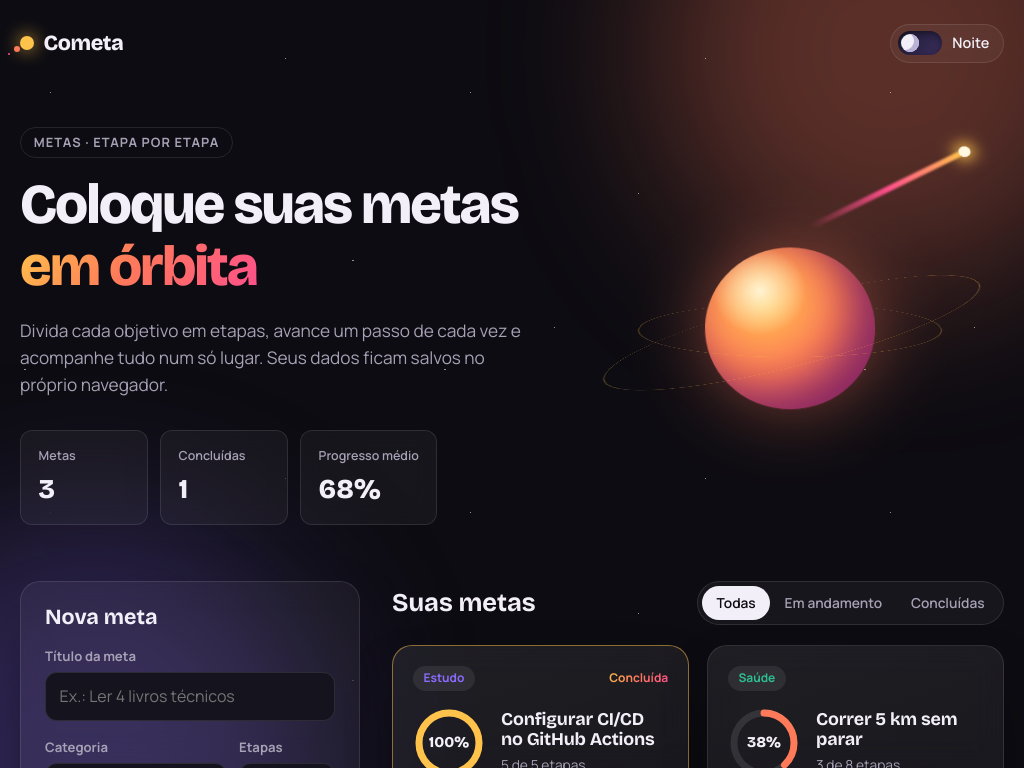
Test case: App Cometa › avança etapas até concluir a meta
In the field labelled "Título da meta": (190, 696) [45,672,335,721], type "Meta rápida"
(page scrolled)
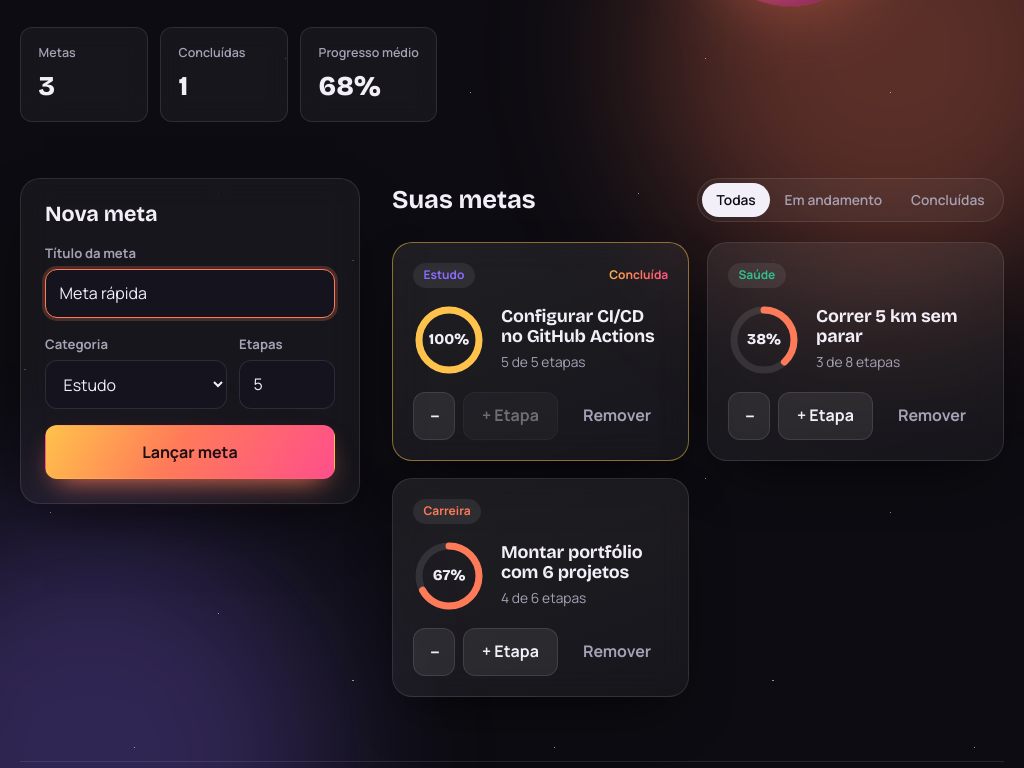
Select "Estudo" in the dropdown labelled "Categoria": (136, 385) [45,360,227,409]
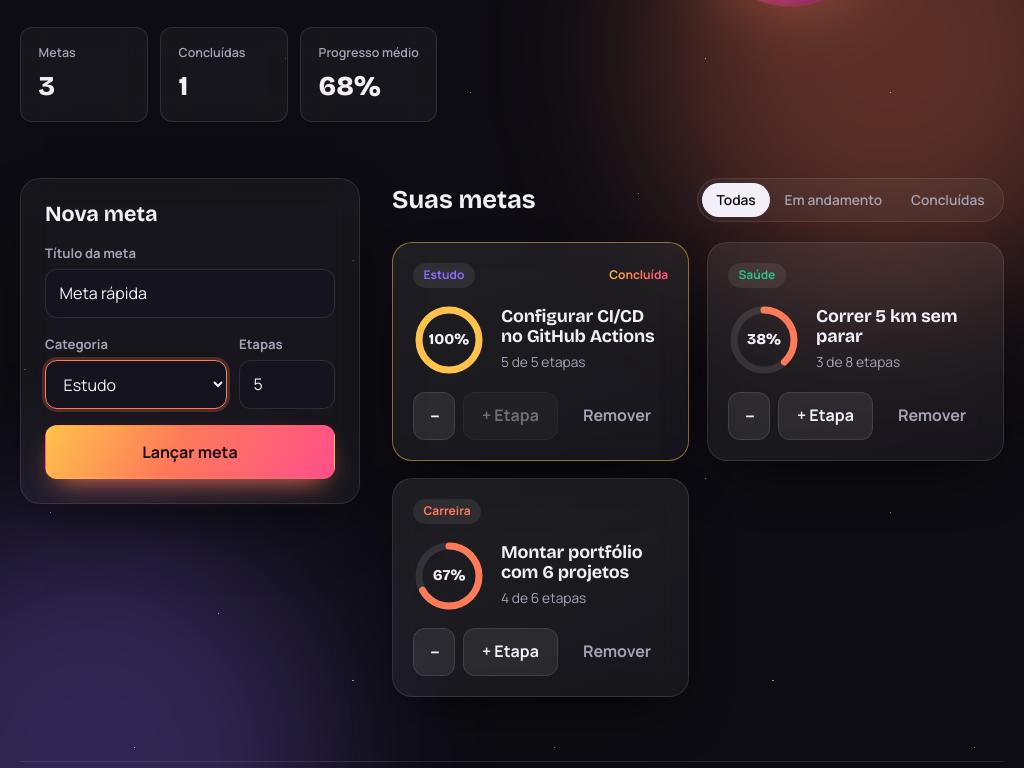
Replace the text in the number field labelled "Etapas" with "2": (287, 384) [239,360,335,409]
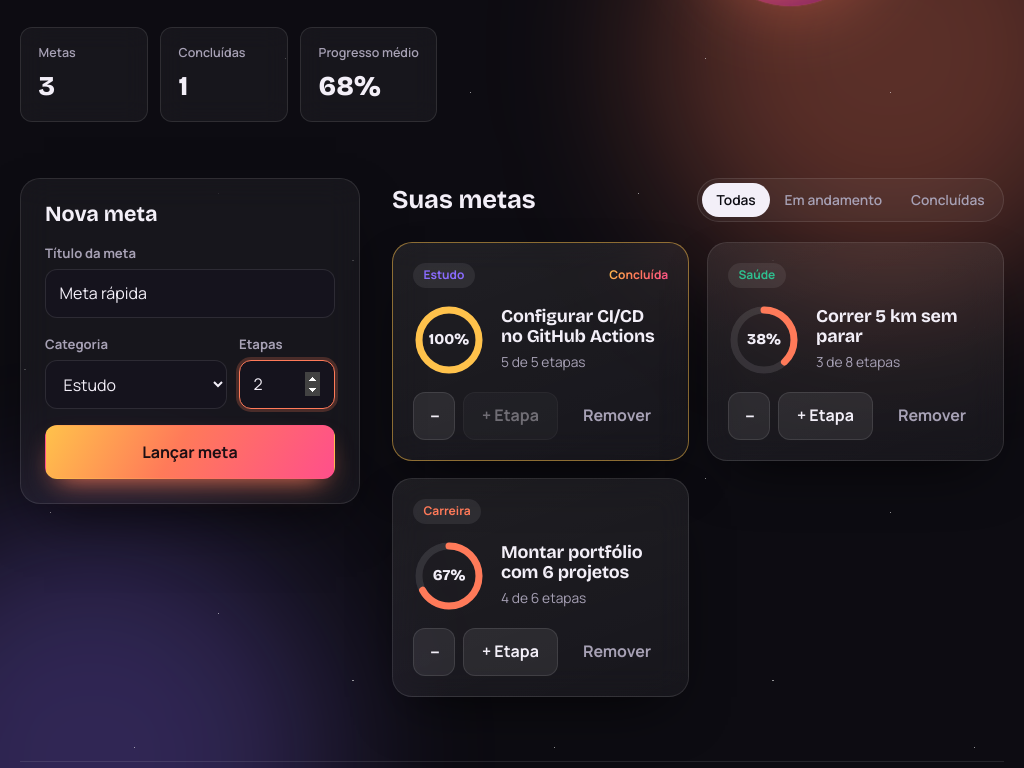
Click the button "Lançar meta": (190, 452) [45,425,335,479]
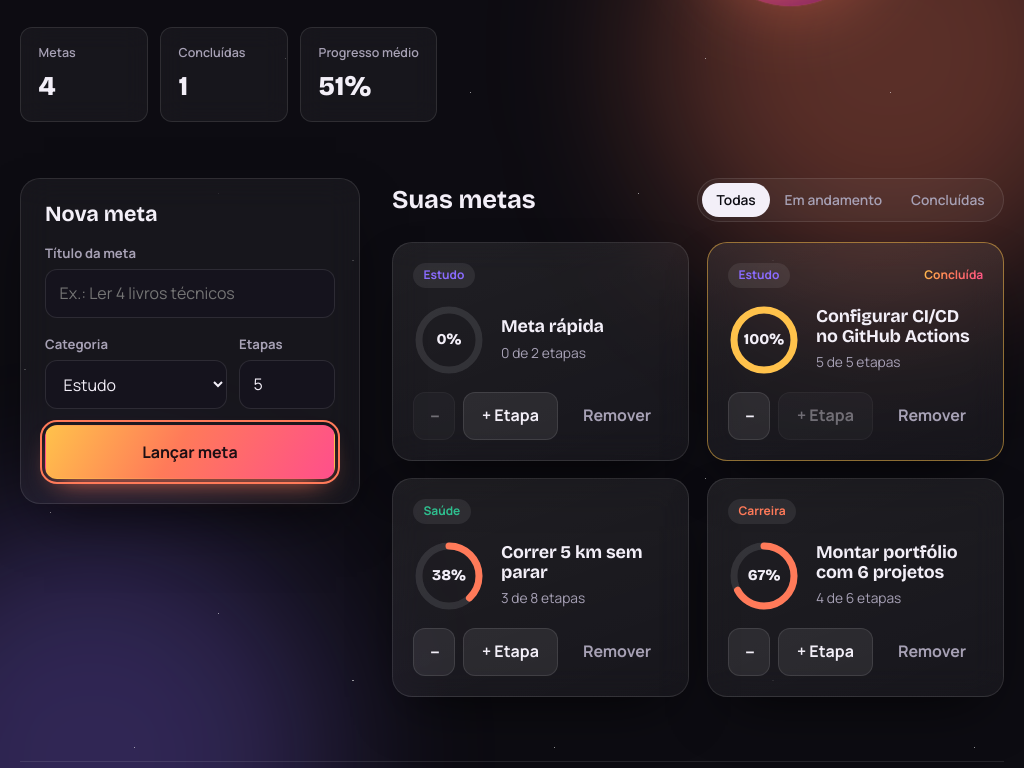
Click the button with aria-label "Avançar etapa de Meta rápida": (510, 416) [463,392,558,440]
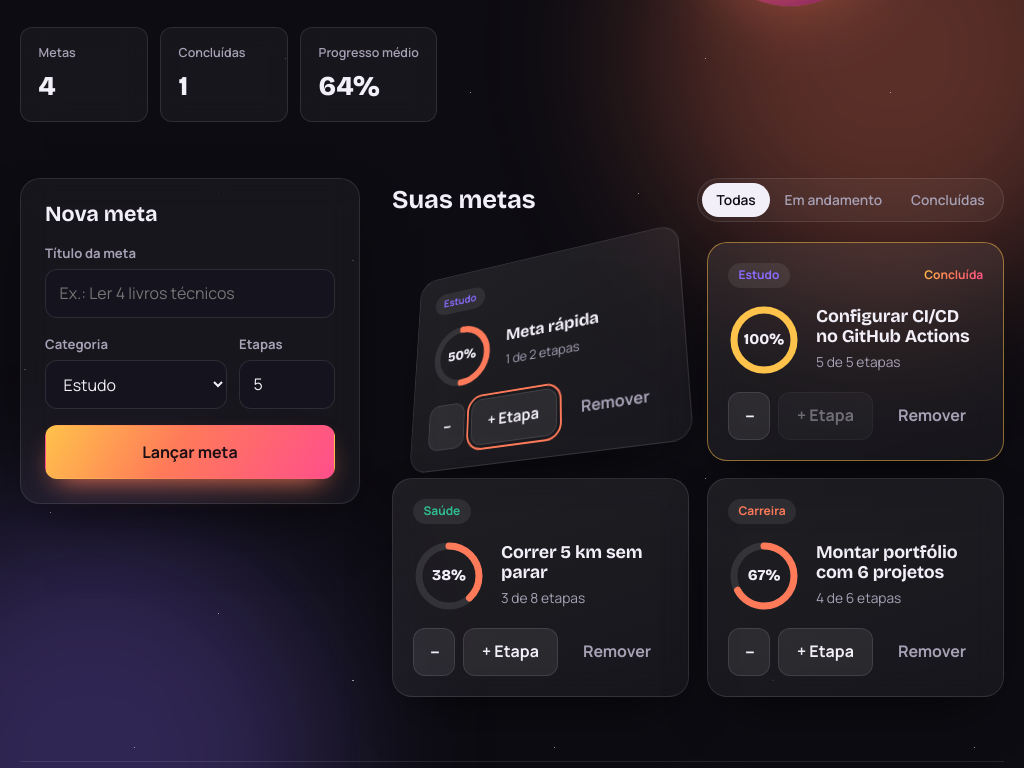
Result: the progress indicator "50%" has attribute aria-valuenow="50" at [431,319,493,393]
Click the button with aria-label "Avançar etapa de Meta rápida": (514, 417) [470,387,557,446]
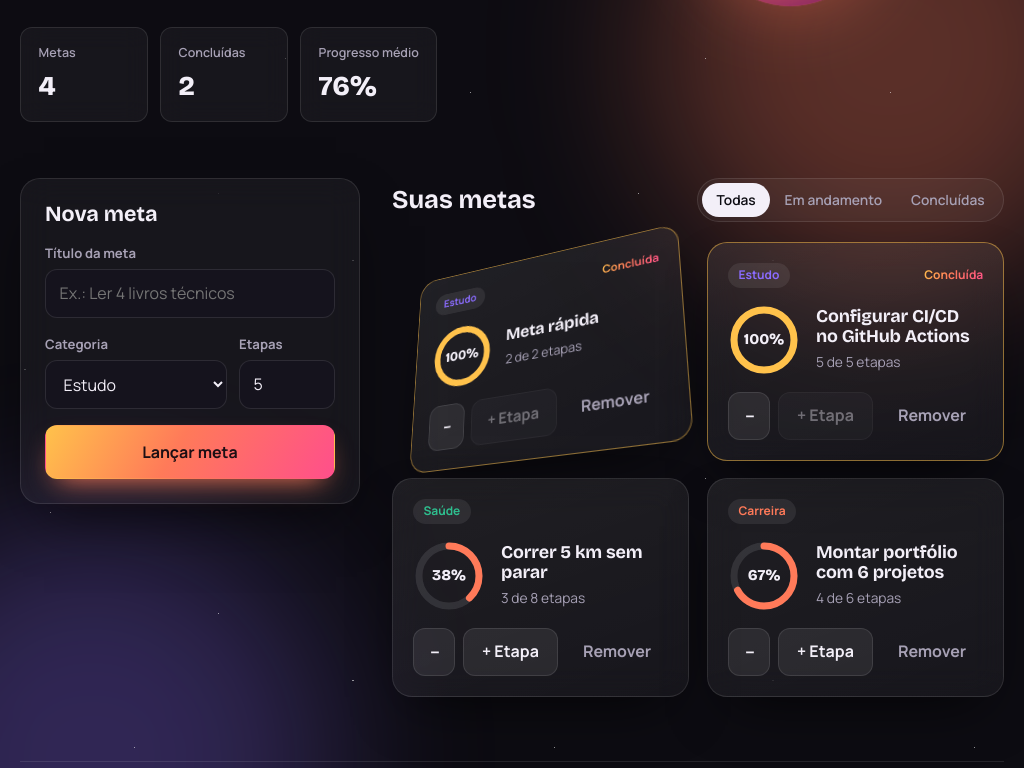
Result: the 1st text "Concluída" is shown at [602,250,660,279]
Result: the button with aria-label "Avançar etapa de Meta rápida" is disabled at [470,387,557,446]
